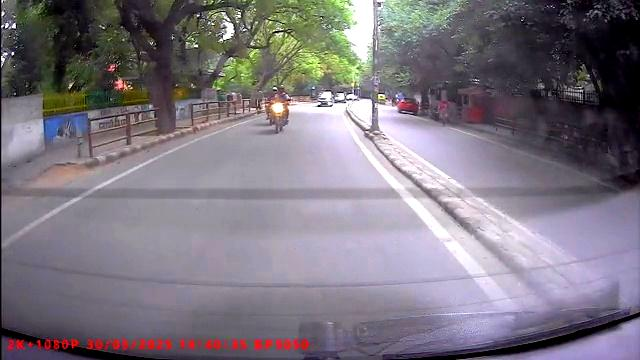motorcycle_with_helmet: (270, 83, 289, 137)
